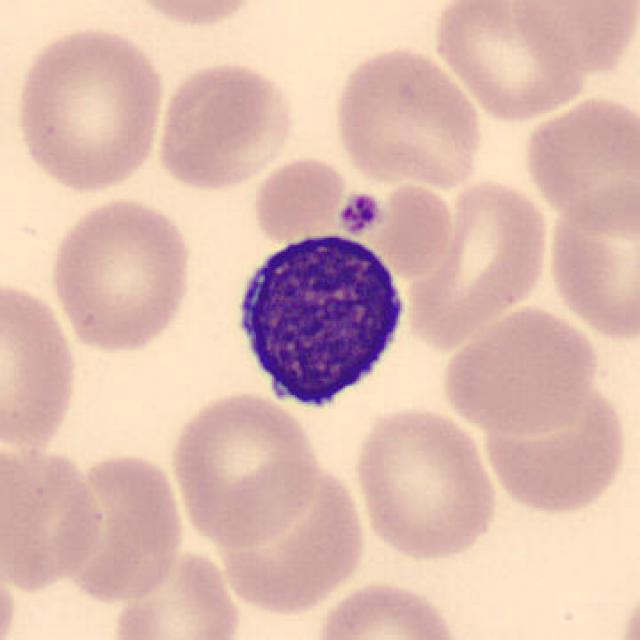Lymphocyte: (222, 222, 418, 418)
Platelets: (336, 190, 384, 237)
RBC: (395, 174, 553, 351), (11, 21, 167, 196), (210, 451, 372, 617), (348, 402, 502, 564), (167, 388, 322, 548), (46, 194, 196, 356), (329, 42, 487, 192), (478, 370, 631, 520), (437, 302, 603, 436), (52, 448, 188, 605), (430, 0, 593, 123), (151, 58, 297, 192), (0, 439, 107, 594), (519, 92, 638, 231), (542, 176, 638, 346), (0, 273, 82, 457), (106, 546, 245, 640), (343, 180, 457, 280), (507, 0, 638, 76), (311, 576, 465, 640), (249, 154, 348, 244), (117, 0, 265, 30), (0, 553, 21, 640), (615, 580, 638, 640)
